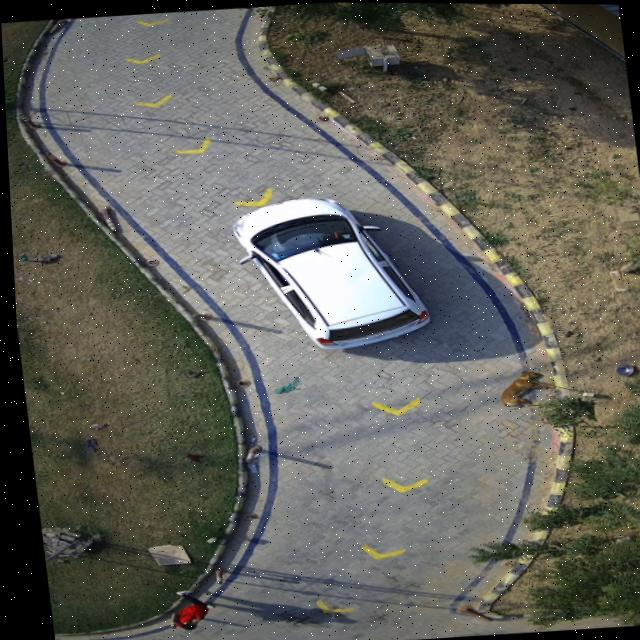car: (227, 195, 428, 349)
